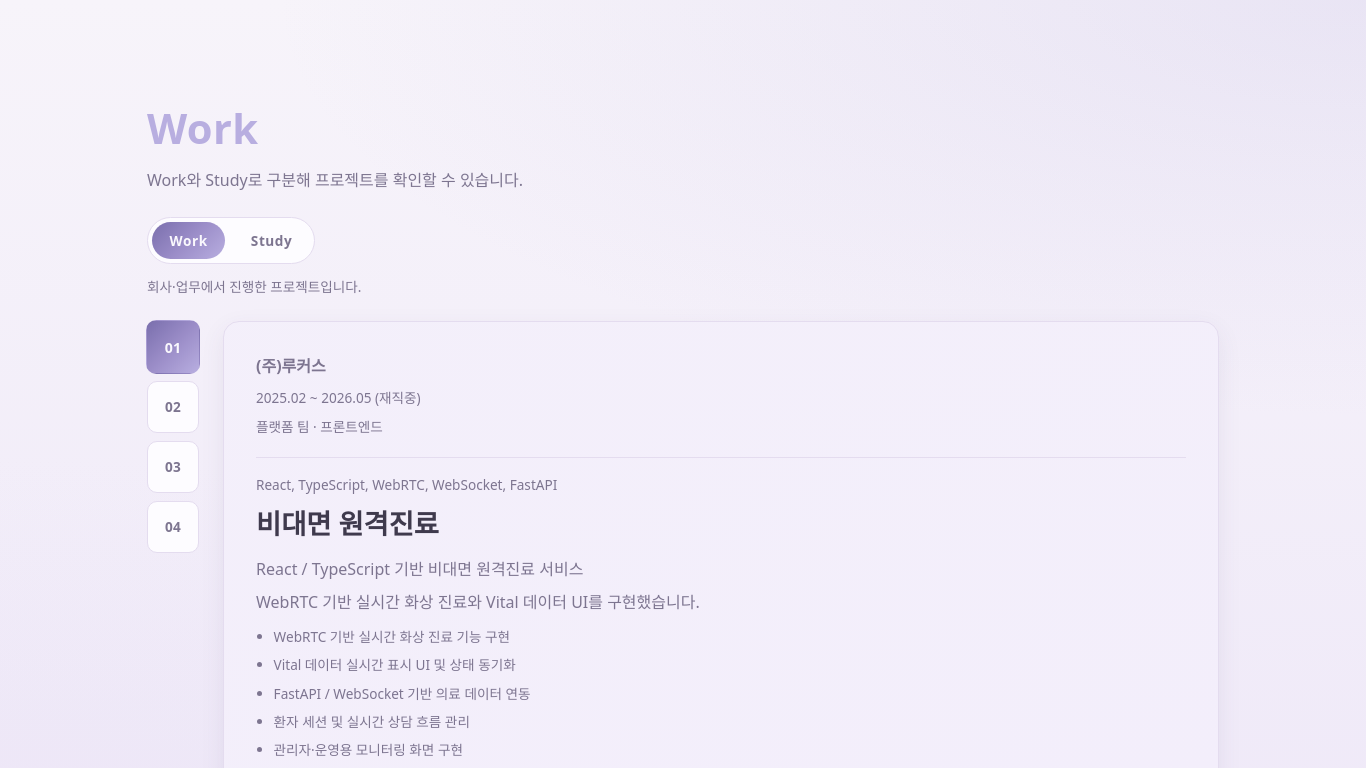
Test case: ProjectSection › Study 프로젝트 링크는 보안 속성을 포함한다
The image size is (1366, 768).
What coordinates should you click on to do the following:
click the tab "Study"
I would click on:
 (272, 241)
Its box is [233,222,310,259].
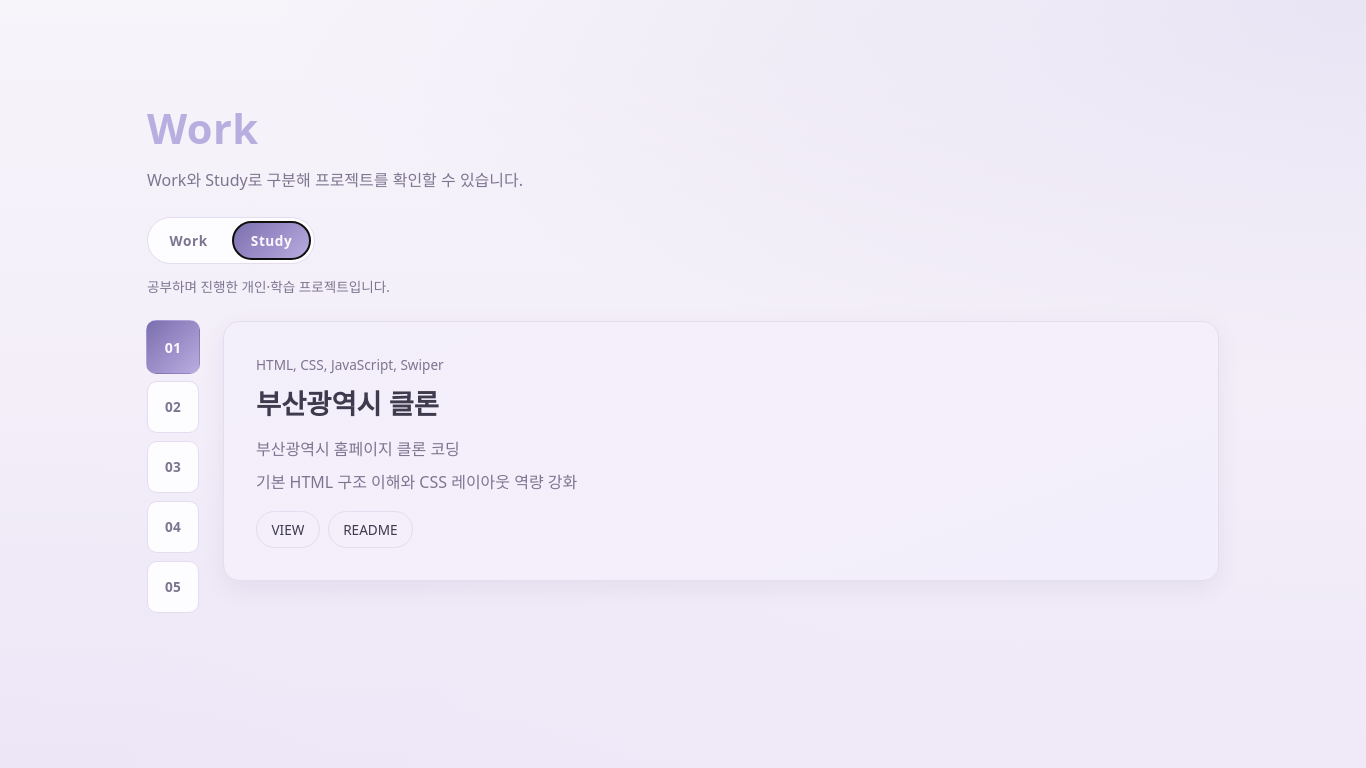
Check: the link "VIEW" is shown, box [256,511,320,548]
